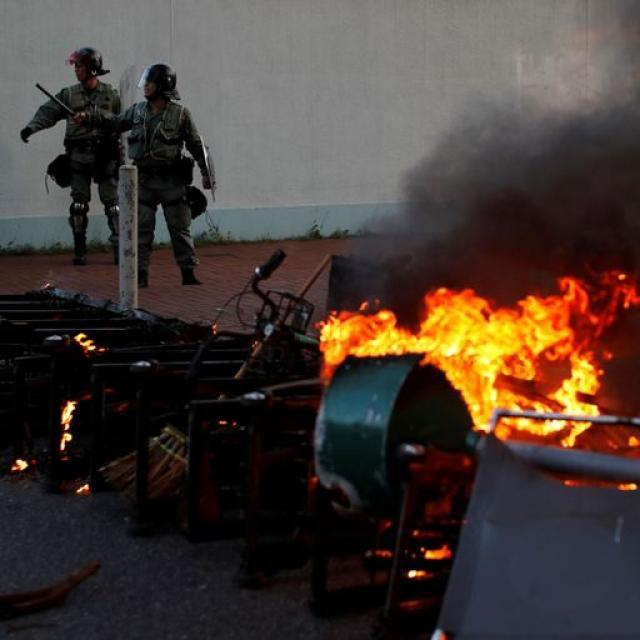Fire: (321, 272, 640, 496)
Smoke: (339, 89, 640, 270)
